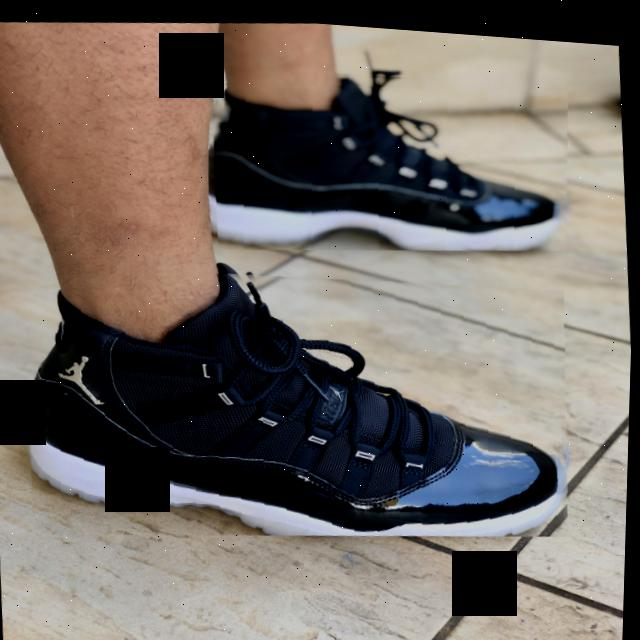shoe: (18, 225, 583, 565), (207, 44, 580, 266)
